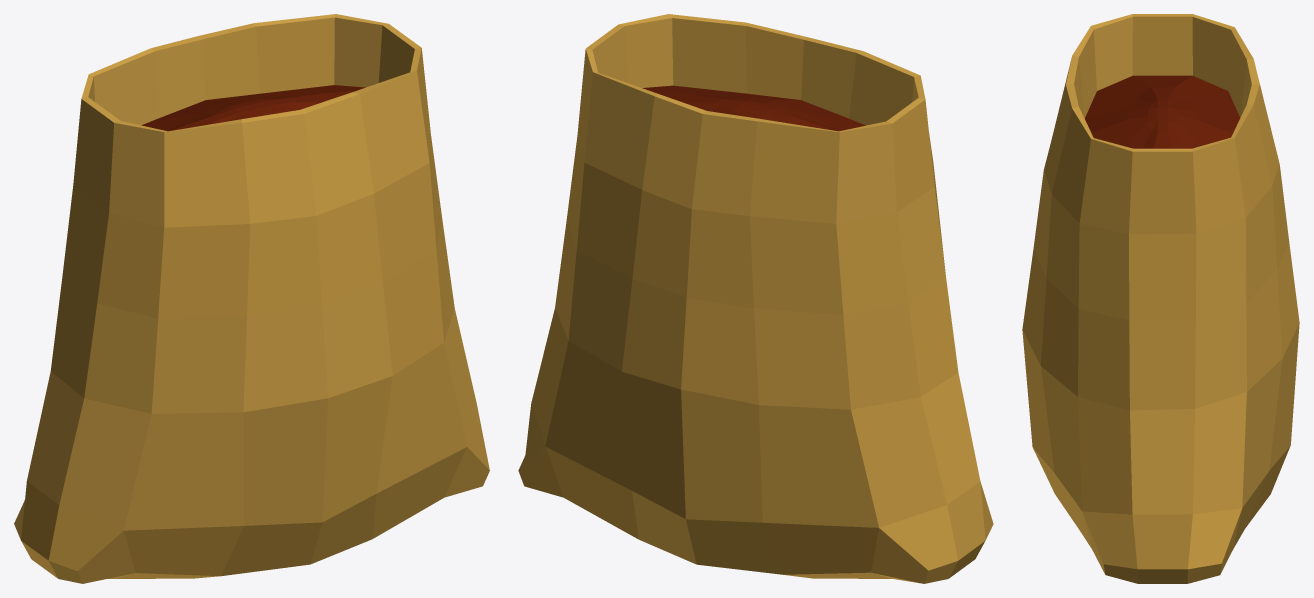
File: SacoDeTerra.fbx
The picture shows the model from 3 angles, left to right: view 1: azimuth 30°, elevation 25°; view 2: azimuth 150°, elevation 25°; view 3: azimuth 270°, elevation 25°; orthographic projection. The views are drawn at different scales.
Visible parts, largest first — view 1: SacoDeTerra; view 2: SacoDeTerra; view 3: SacoDeTerra.
Part boxes in pixels (bbox=[...]): SacoDeTerra: bbox=[14, 14, 489, 583]; SacoDeTerra: bbox=[518, 14, 993, 583]; SacoDeTerra: bbox=[1022, 14, 1299, 583].
Size of the model in its own units: 81.02 by 85.52 by 48.91.
Materials: 1 (1 with a texture image).
